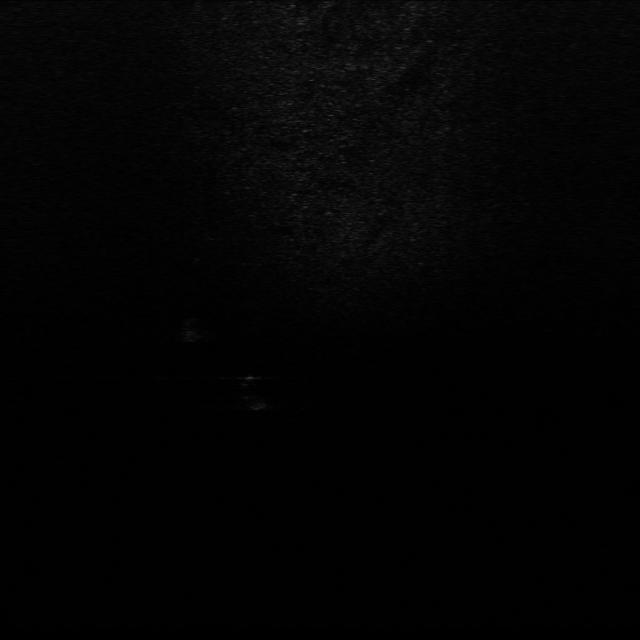circle cage: (180, 316, 210, 345)
tyre: (232, 368, 277, 414)
